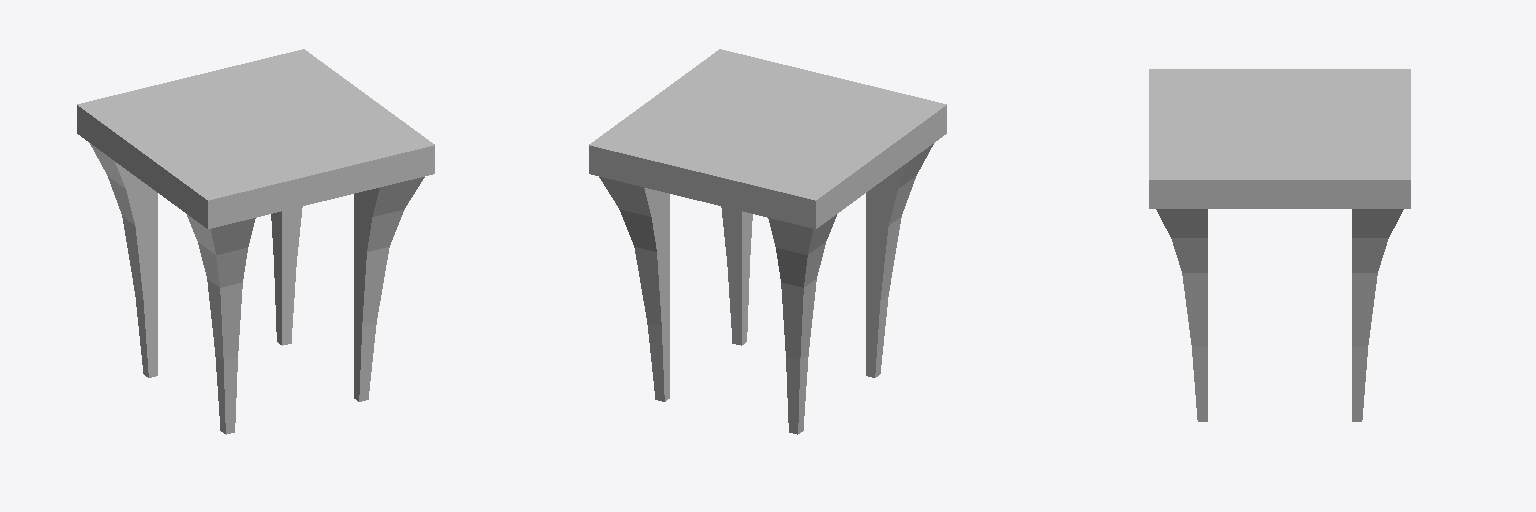
Rendered from mesa.obj.
3 views of the same model, side by side, from view 1: azimuth 30°, elevation 25°; view 2: azimuth 150°, elevation 25°; view 3: azimuth 270°, elevation 25° (orthographic).
Parts seen in each view (by area): view 1: Side_Table_Mesh; view 2: Side_Table_Mesh; view 3: Side_Table_Mesh.
Part boxes in pixels (x1,y1,x2,y2): Side_Table_Mesh: (77,49,434,434); Side_Table_Mesh: (589,49,946,434); Side_Table_Mesh: (1149,69,1410,421).
Size of the model in its own units: 7.49 by 8.25 by 7.49.